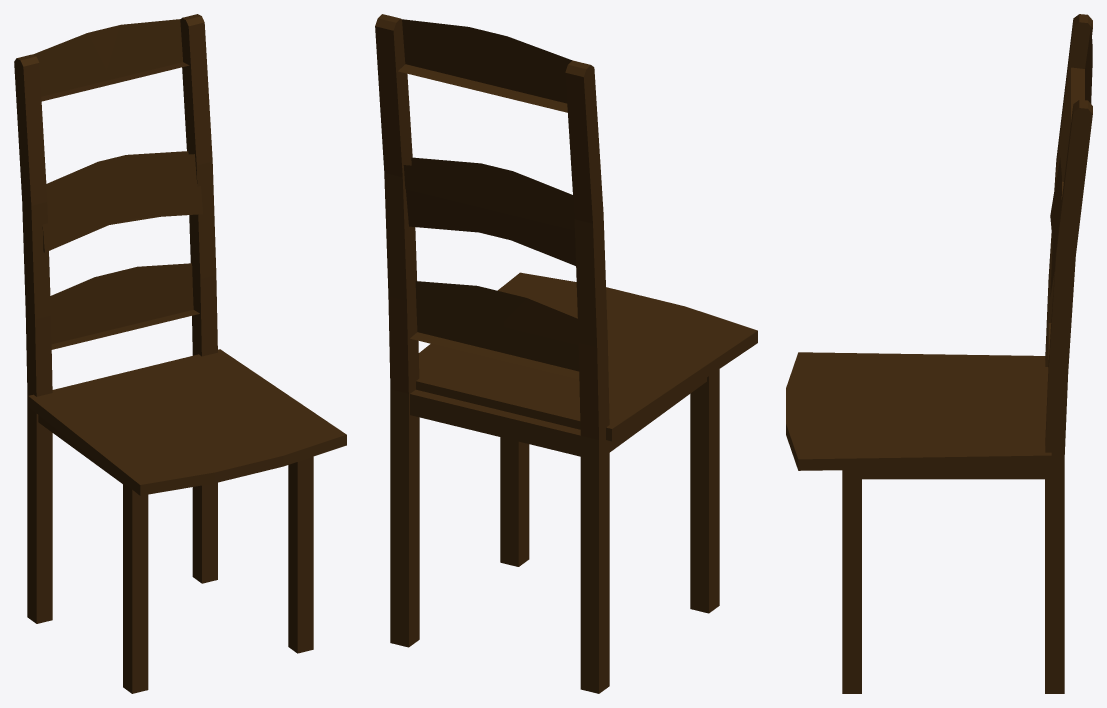
Rendered from Chair.fbx.
3 views of the same model, side by side, from view 1: azimuth 30°, elevation 25°; view 2: azimuth 150°, elevation 25°; view 3: azimuth 270°, elevation 25° (orthographic). The views are drawn at different scales.
Parts seen in each view (by area): view 1: chair; view 2: chair; view 3: chair.
Part boxes in pixels (x1=…): chair: x1=14, y1=14, x2=346, y2=693; chair: x1=375, y1=14, x2=757, y2=693; chair: x1=786, y1=14, x2=1092, y2=693.
Size of the model in its own units: 200 by 517 by 242.
